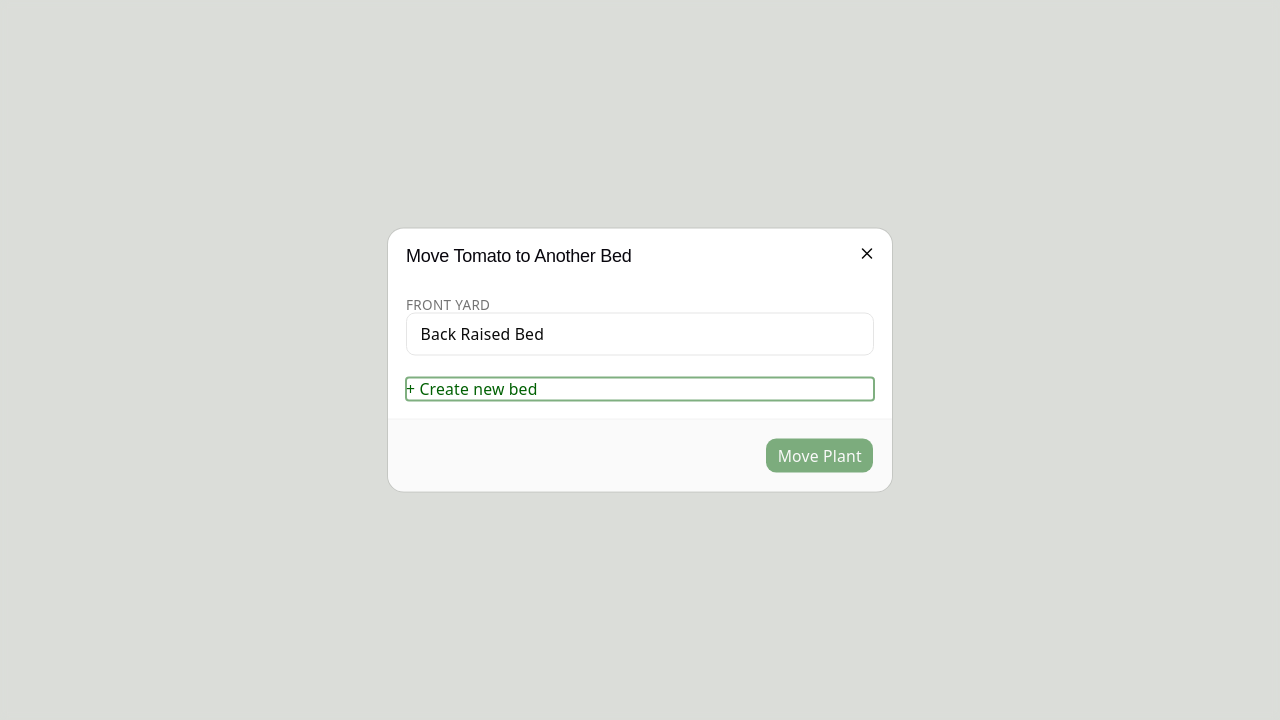
MovePlantDialog › navigates back to the pick step when Back is clicked
The image size is (1280, 720).
Expected: the button "Back Raised Bed" is shown, [406,313,874,356]
Click the button "+ Create new bed": (472, 389) [406,378,874,400]
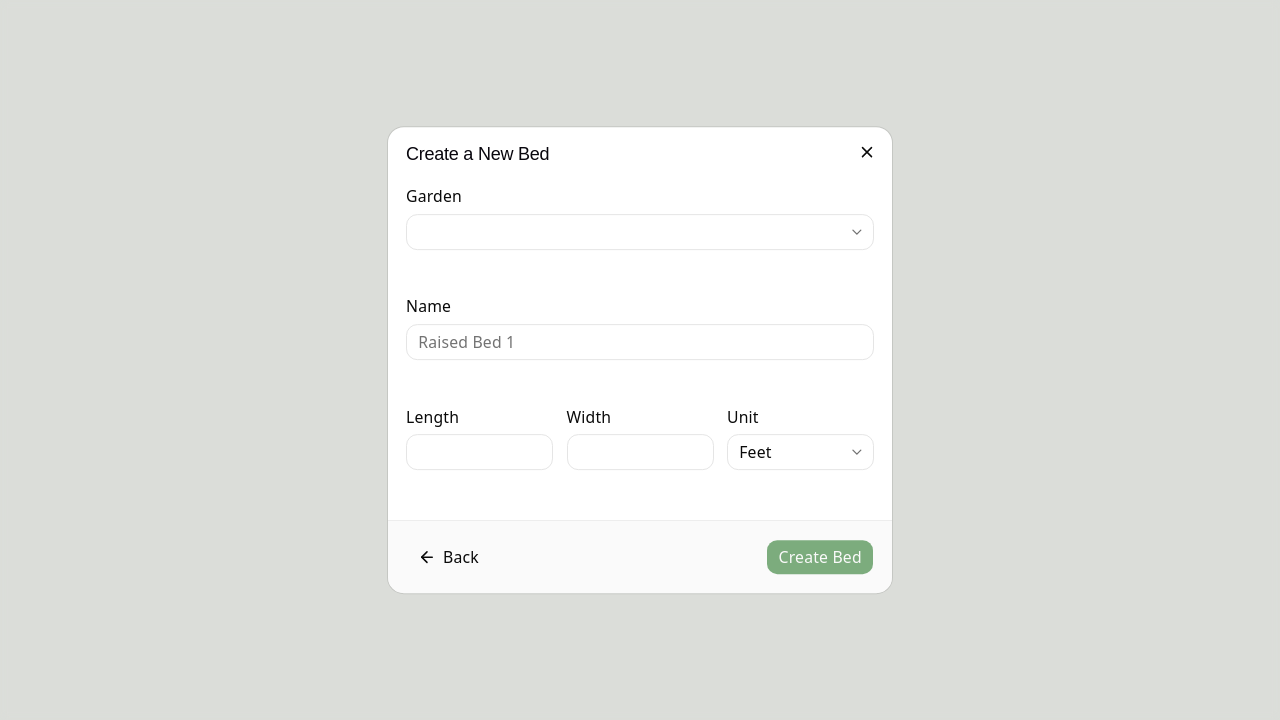
Click the button "Back": (448, 557) [406,539,491,575]
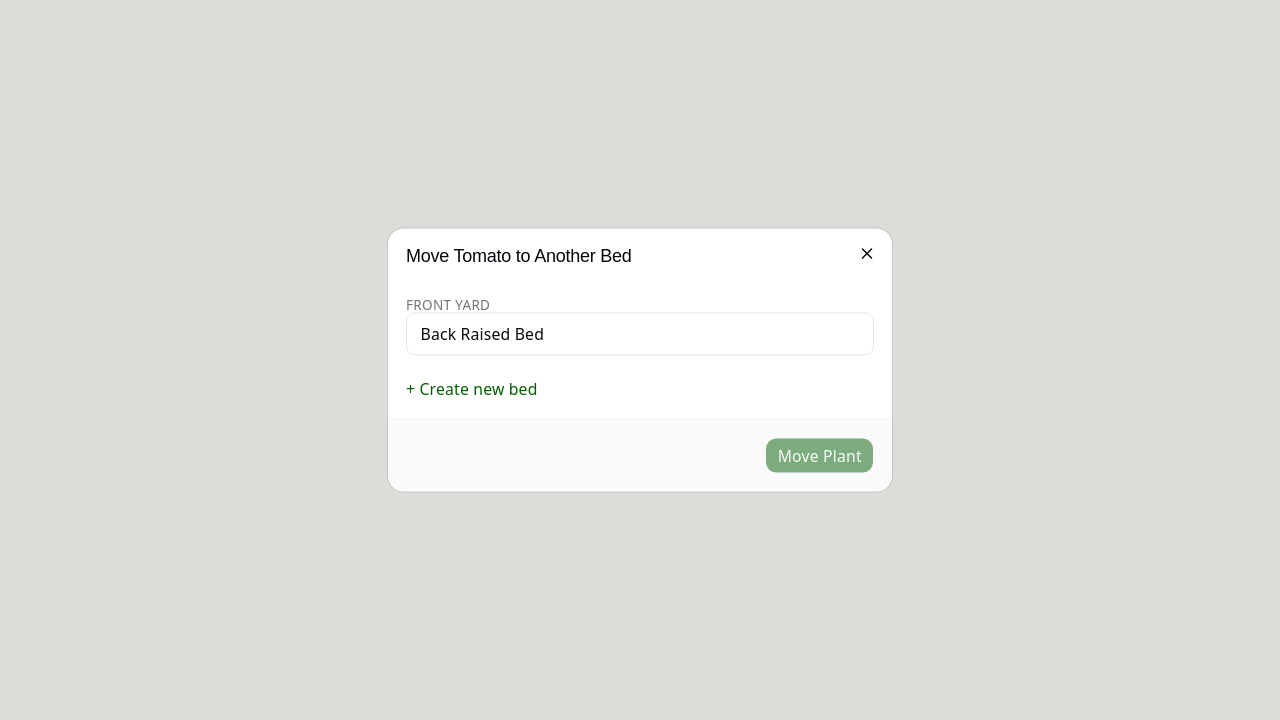
Now the heading "Move Tomato to Another Bed" is shown, box [406,246,632,266]
